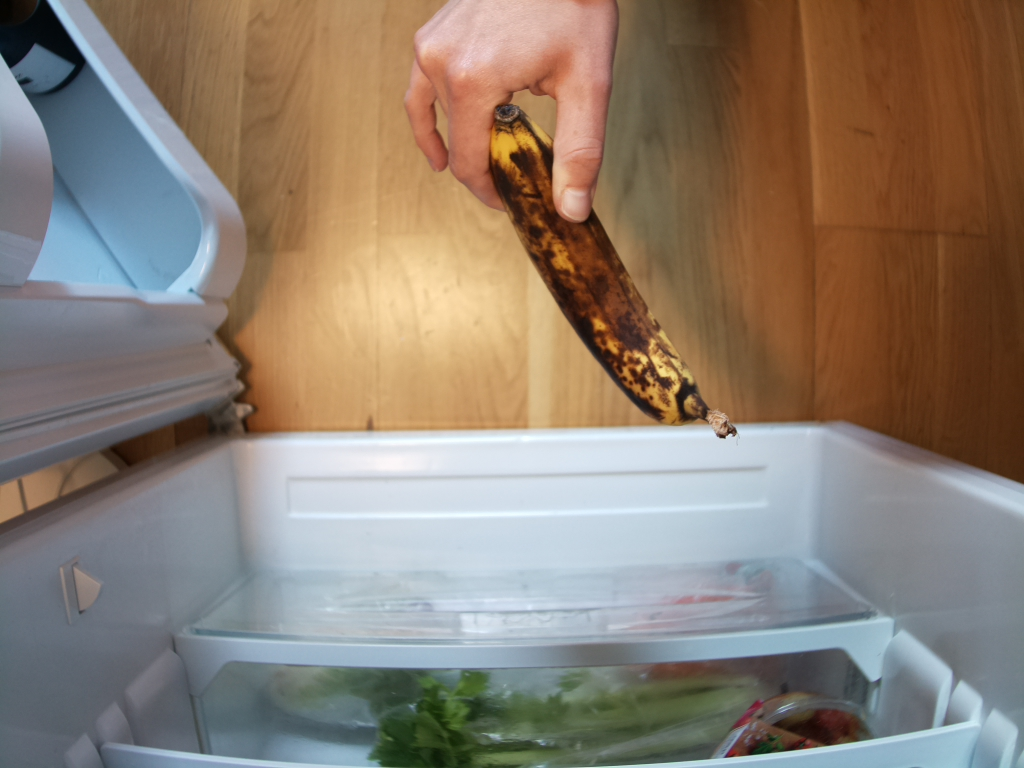banana-overripe: (494, 98, 742, 445)
